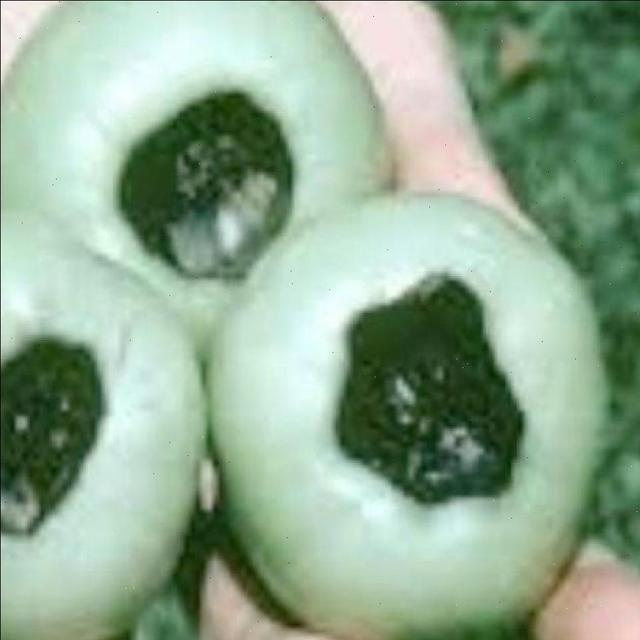Blossom End Rot Fruit: (34, 123, 286, 293)
